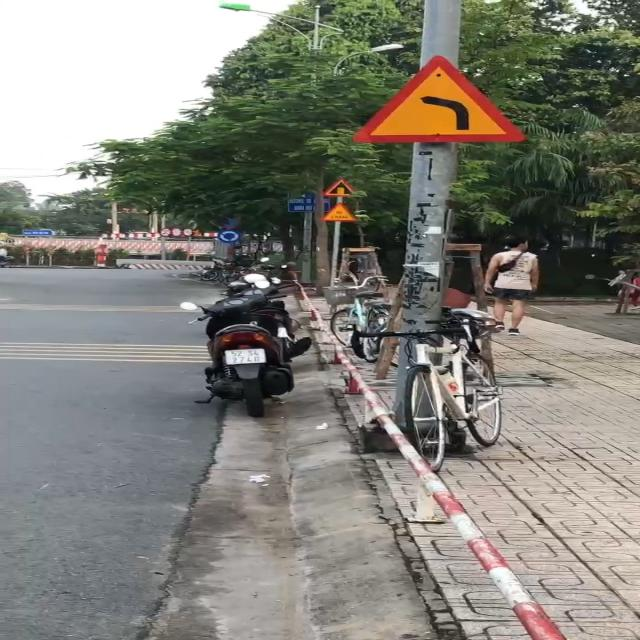Bien bao cho ngoat nguy hiem: (338, 51, 538, 146)
Bien bao di cham: (318, 202, 362, 225)
Bien bao noi giao nhau chay theo vong xuyen: (217, 229, 242, 243)
